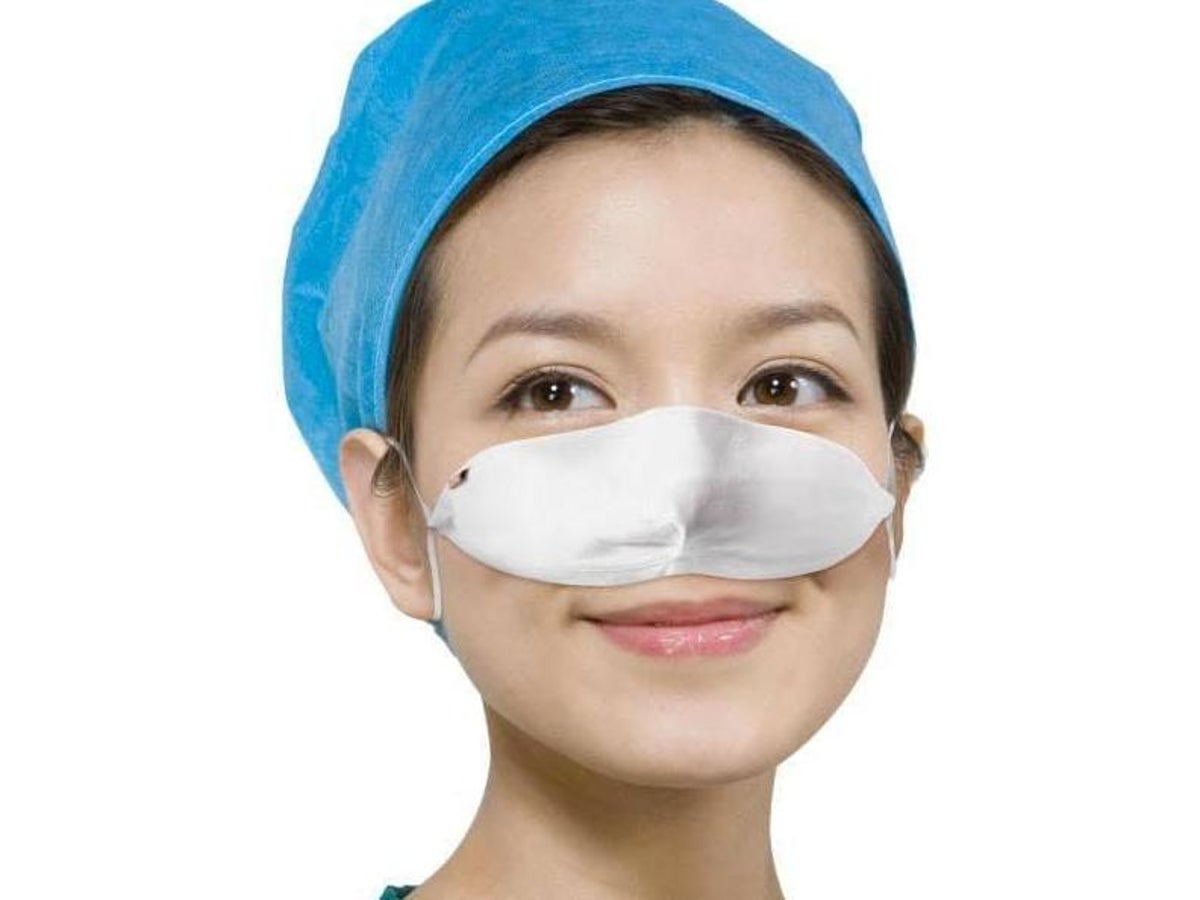with_incorrect_mask: (432, 147, 882, 749)
